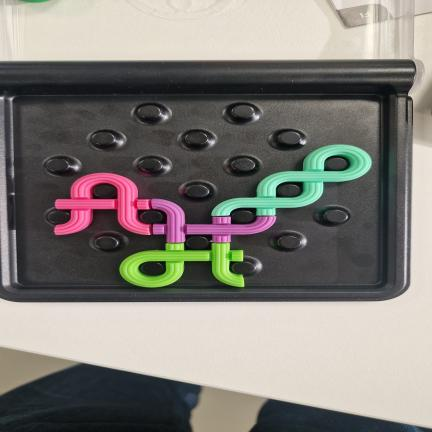F_Teal: (212, 145, 371, 217)
G_Pink: (55, 173, 151, 235)
H_Purple: (151, 199, 276, 242)
K_YellowGreen: (120, 243, 244, 287)
board: (0, 60, 414, 301)
hinge: (0, 60, 423, 91)
pin: (231, 157, 256, 172), (139, 262, 165, 276), (46, 158, 70, 173), (139, 158, 163, 173), (93, 184, 117, 199), (185, 184, 210, 198), (231, 105, 255, 119), (92, 132, 116, 146), (325, 157, 349, 171), (139, 210, 163, 224), (95, 236, 119, 250), (232, 261, 256, 275), (323, 210, 348, 223), (138, 105, 161, 119), (278, 131, 301, 145), (185, 131, 208, 145), (47, 210, 70, 224), (231, 210, 254, 224), (278, 235, 301, 249), (278, 184, 301, 197), (186, 236, 209, 249)
